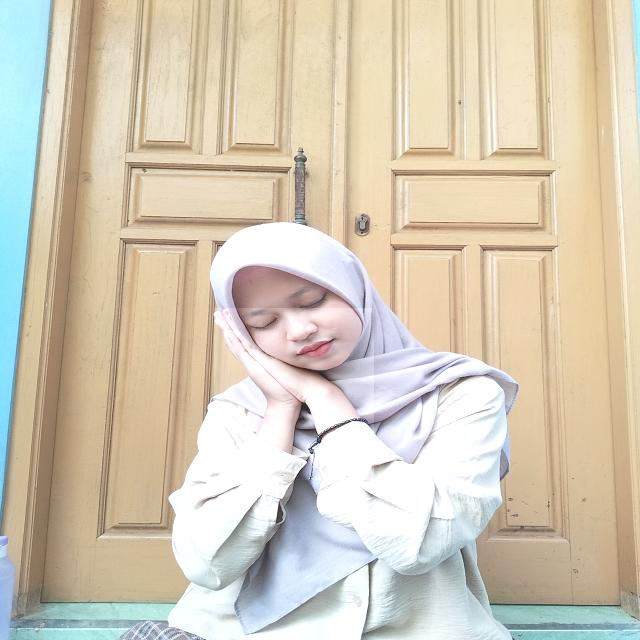tidur: (214, 308, 374, 480)
